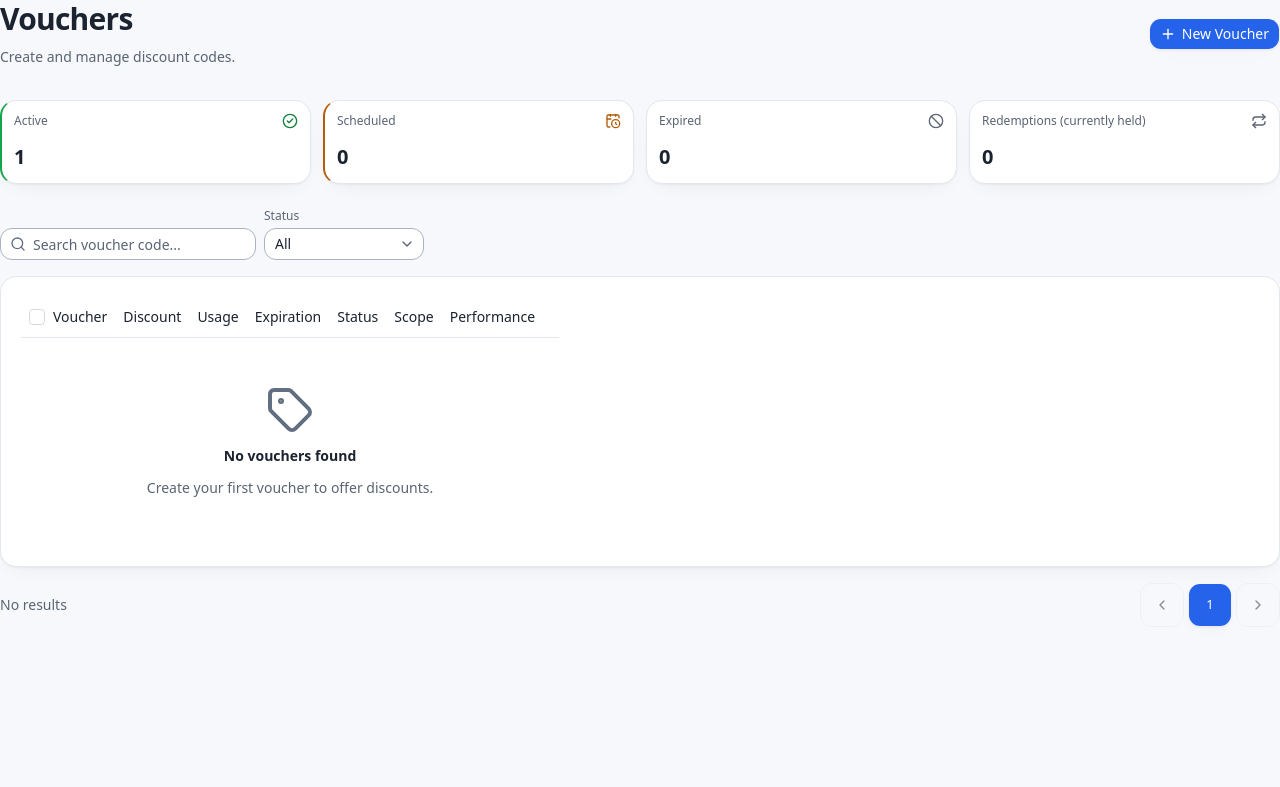
Test: VouchersPage › shows the product picker only once Scope is set to Selected Products
The image size is (1280, 787).
Check: the text "No vouchers found" is shown, box [224,446,356,466]
Click the button "New Voucher": (1214, 34) [1149,18,1279,50]
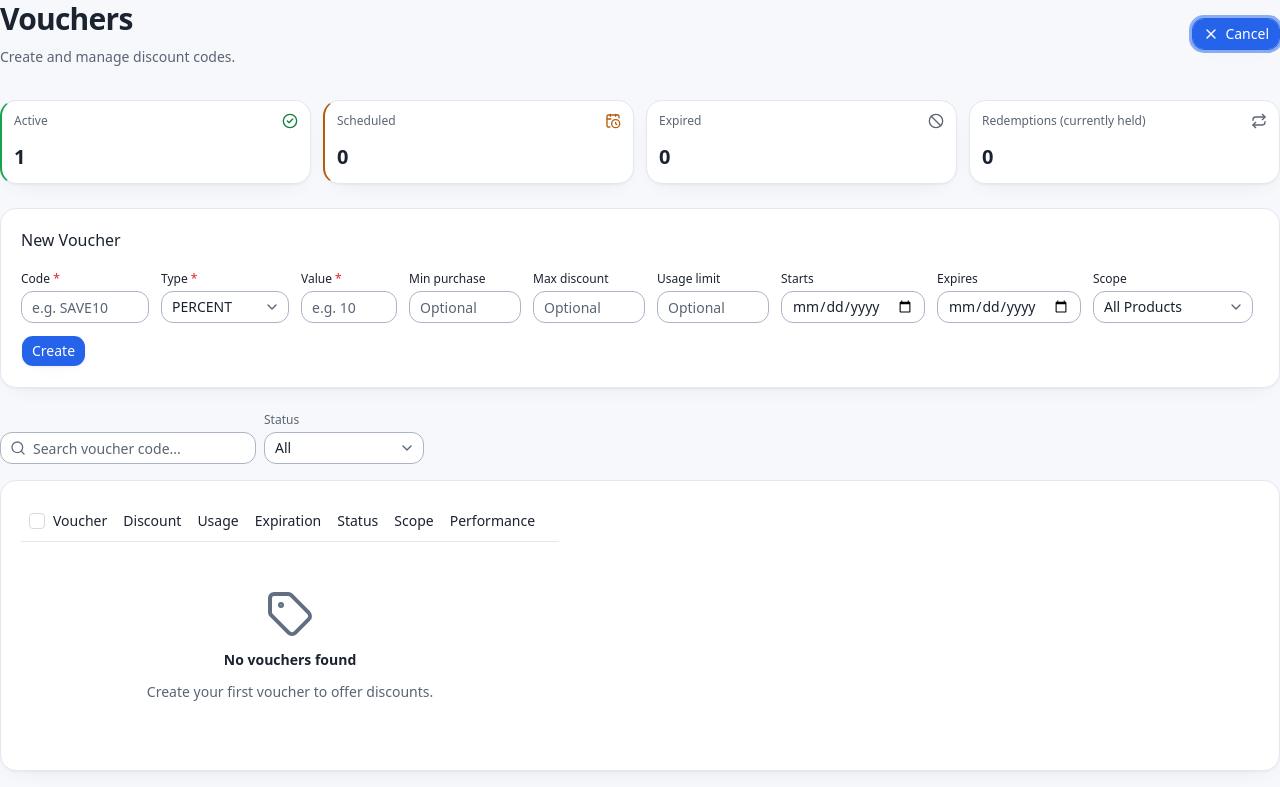
Check: the text "Select products" is not shown
Click the dropdown named "Scope": (1173, 307) [1093,291,1253,323]
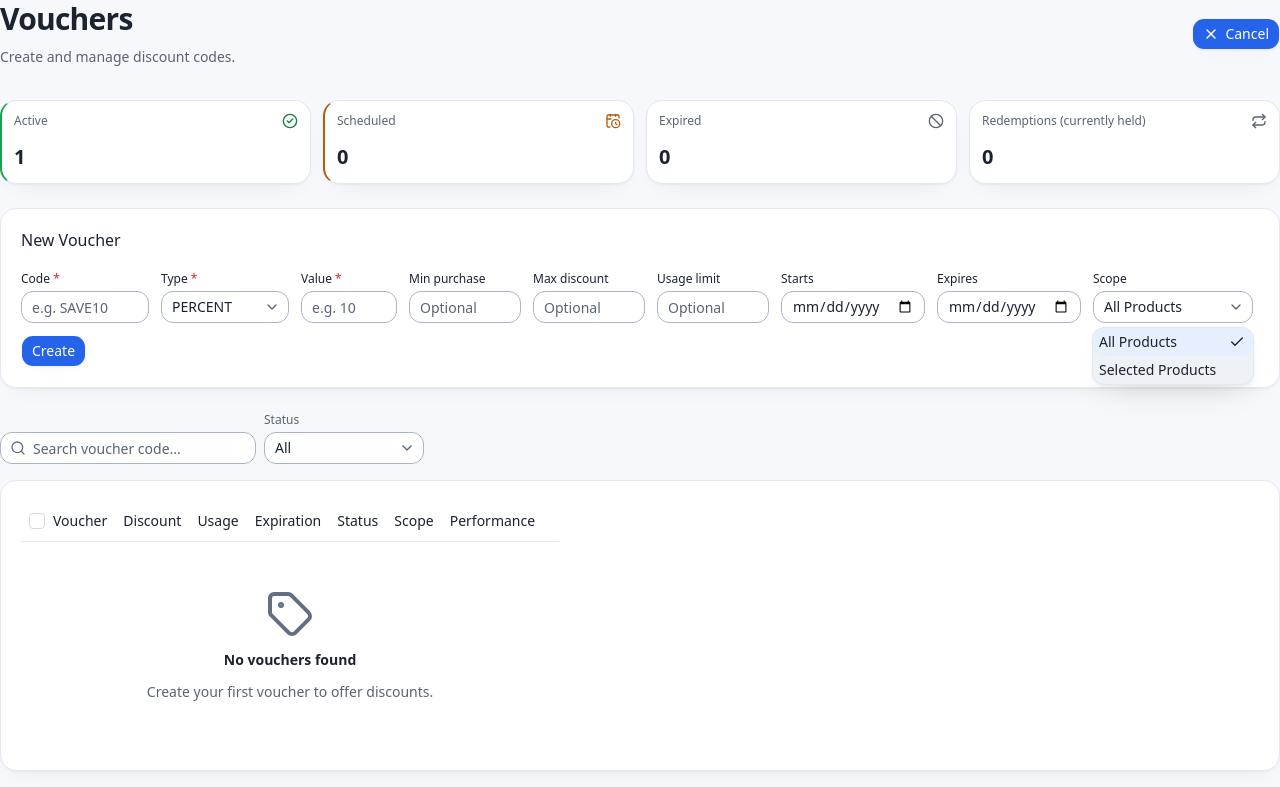
Check: the option "Selected Products" is shown
Click the option "Selected Products": (1158, 370) [1099,360,1216,379]
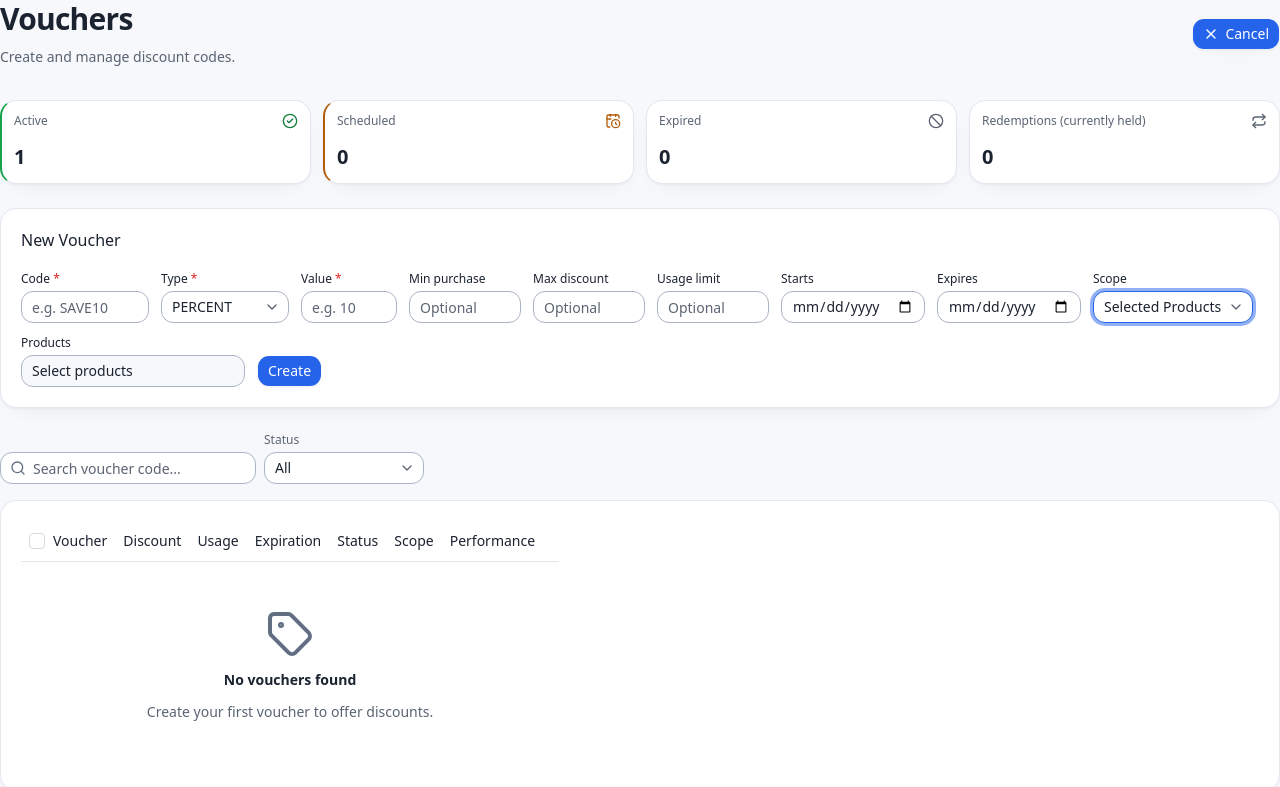
Check: the button "Select products" is shown, box [21,355,245,387]
